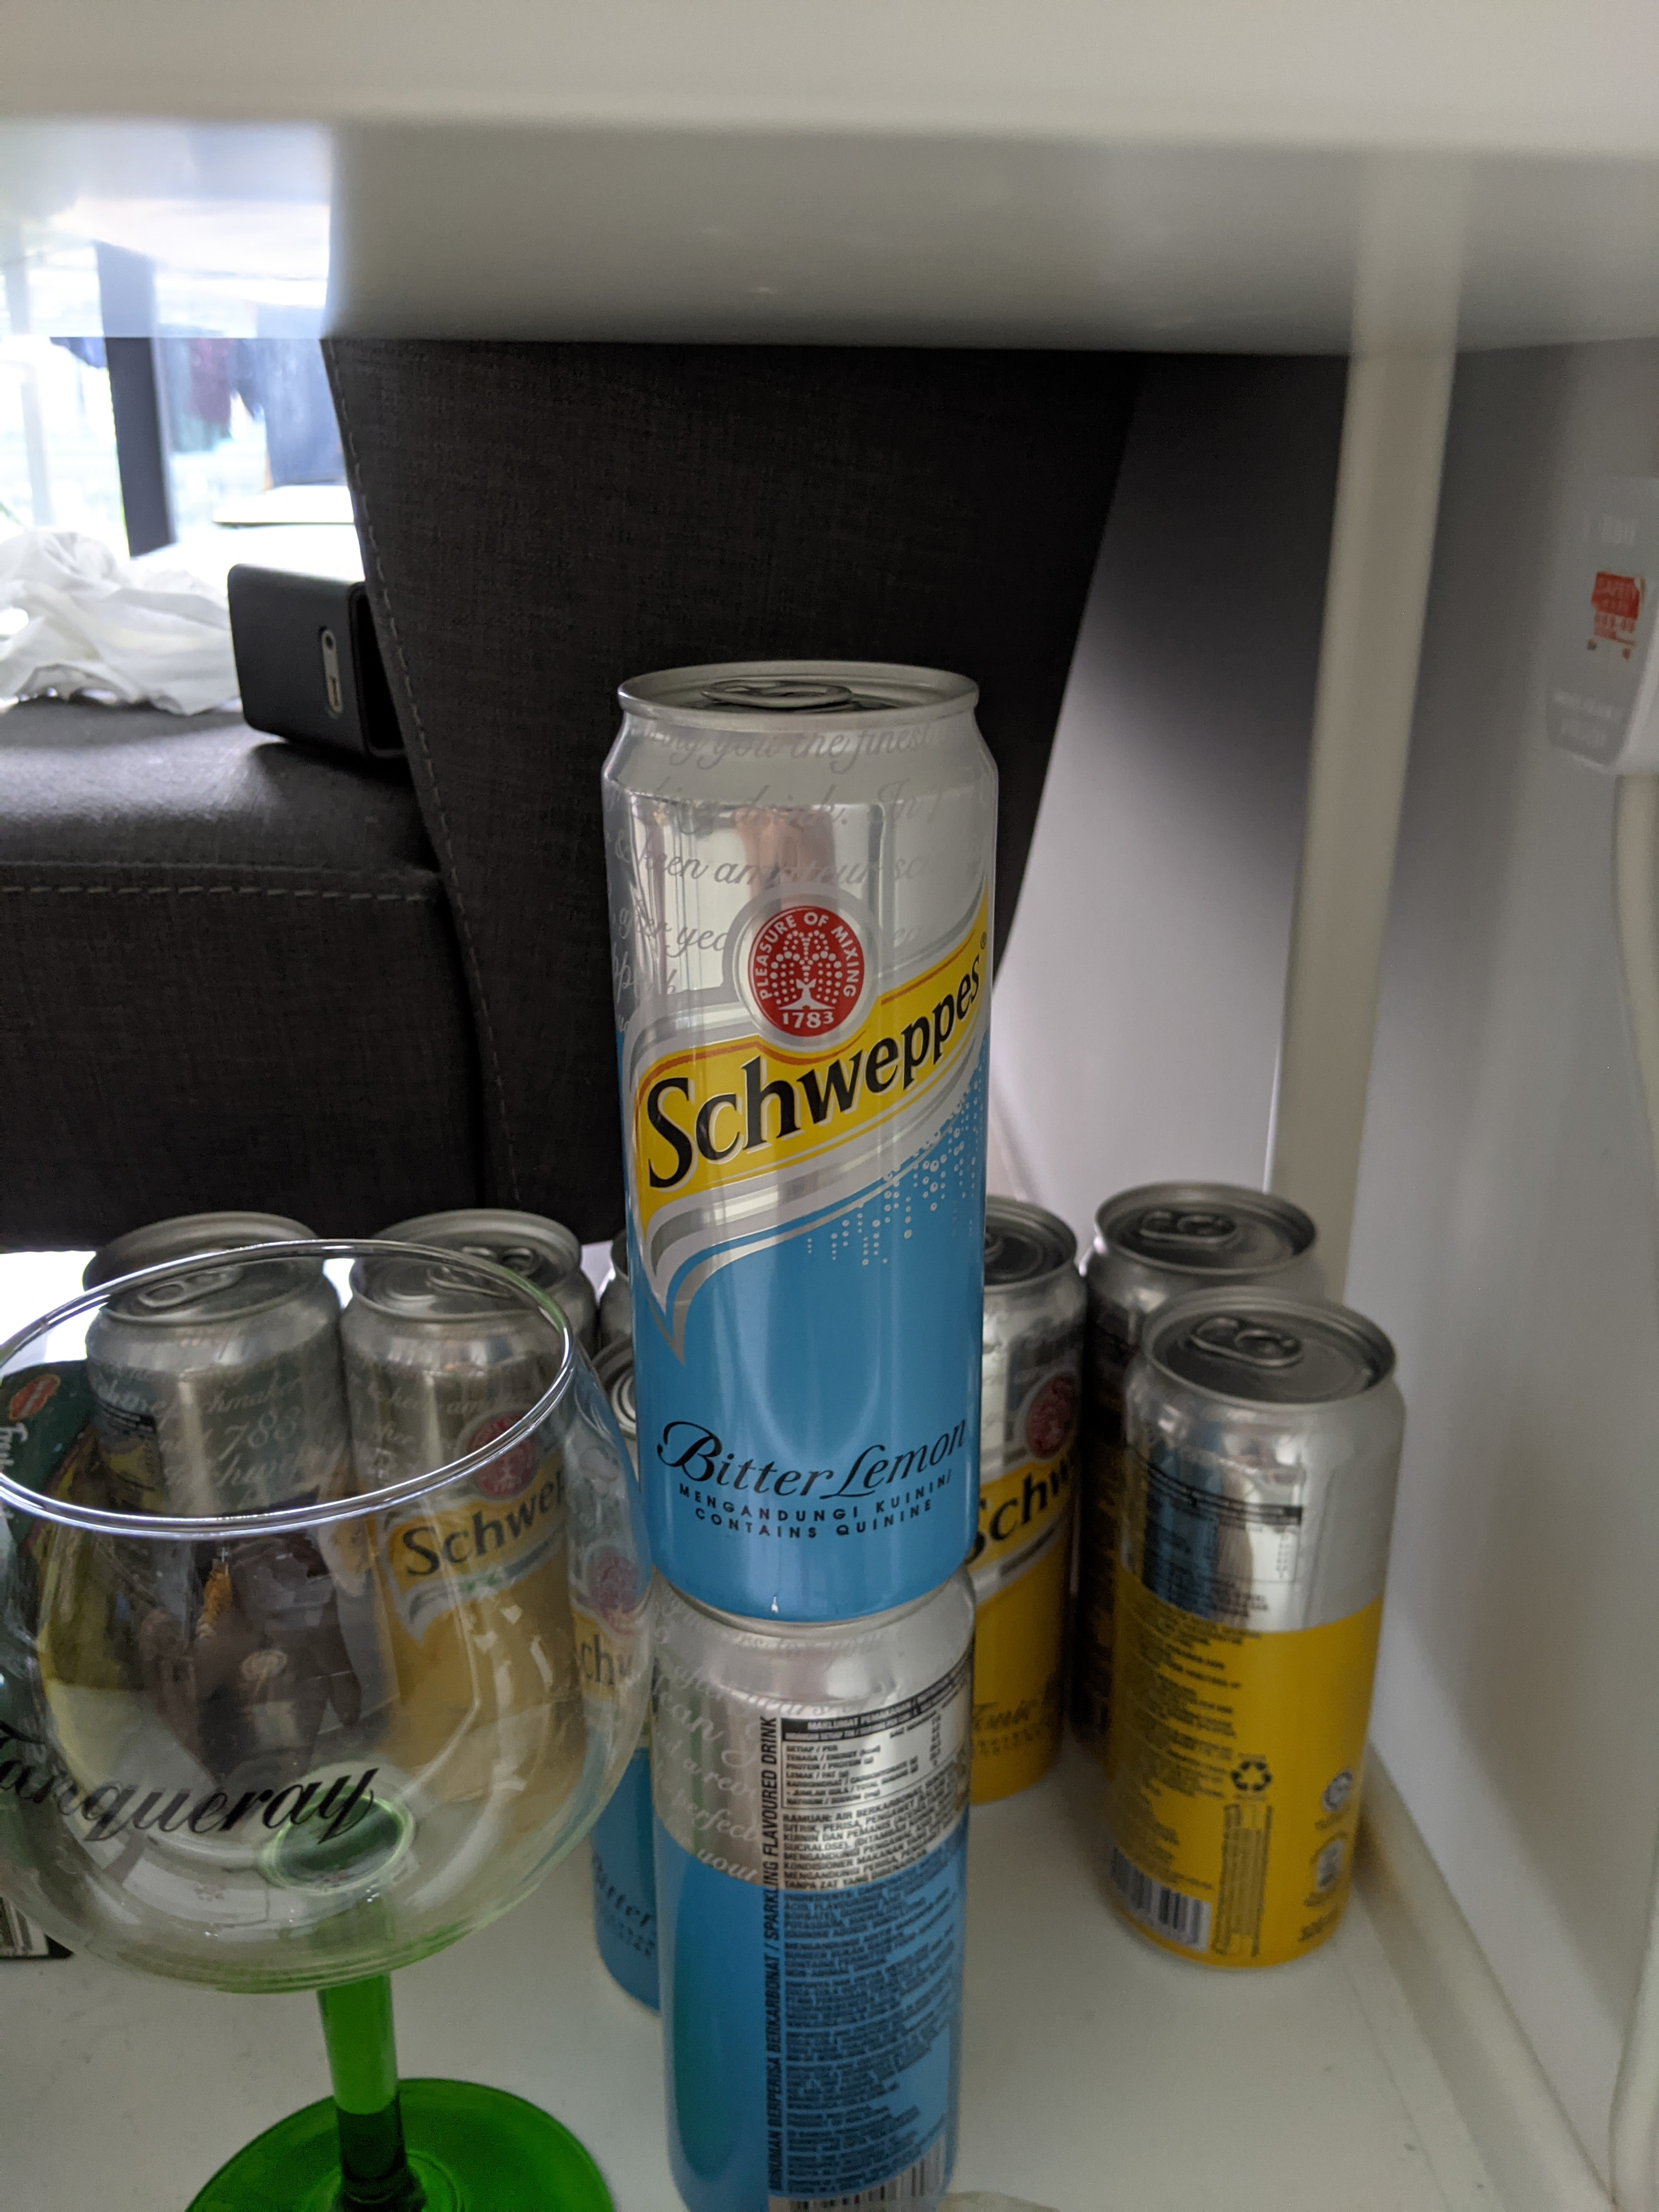schweppes drink can bitter lemon: (565, 601, 1061, 1660)
